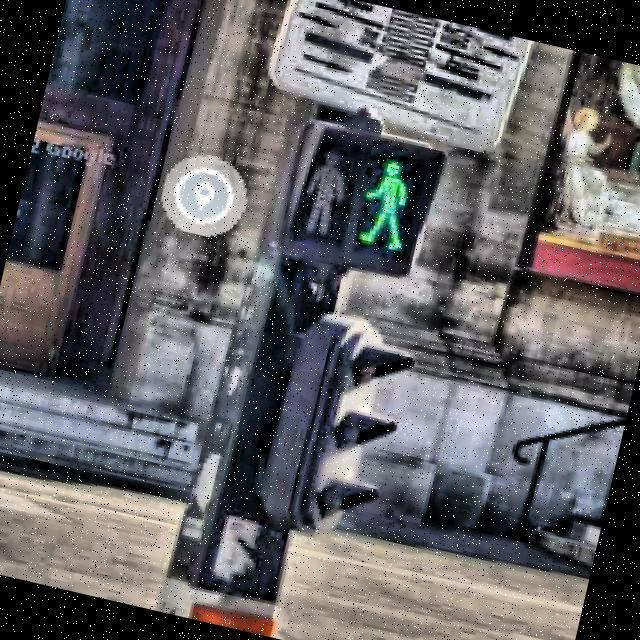green_light: (346, 148, 424, 255)
